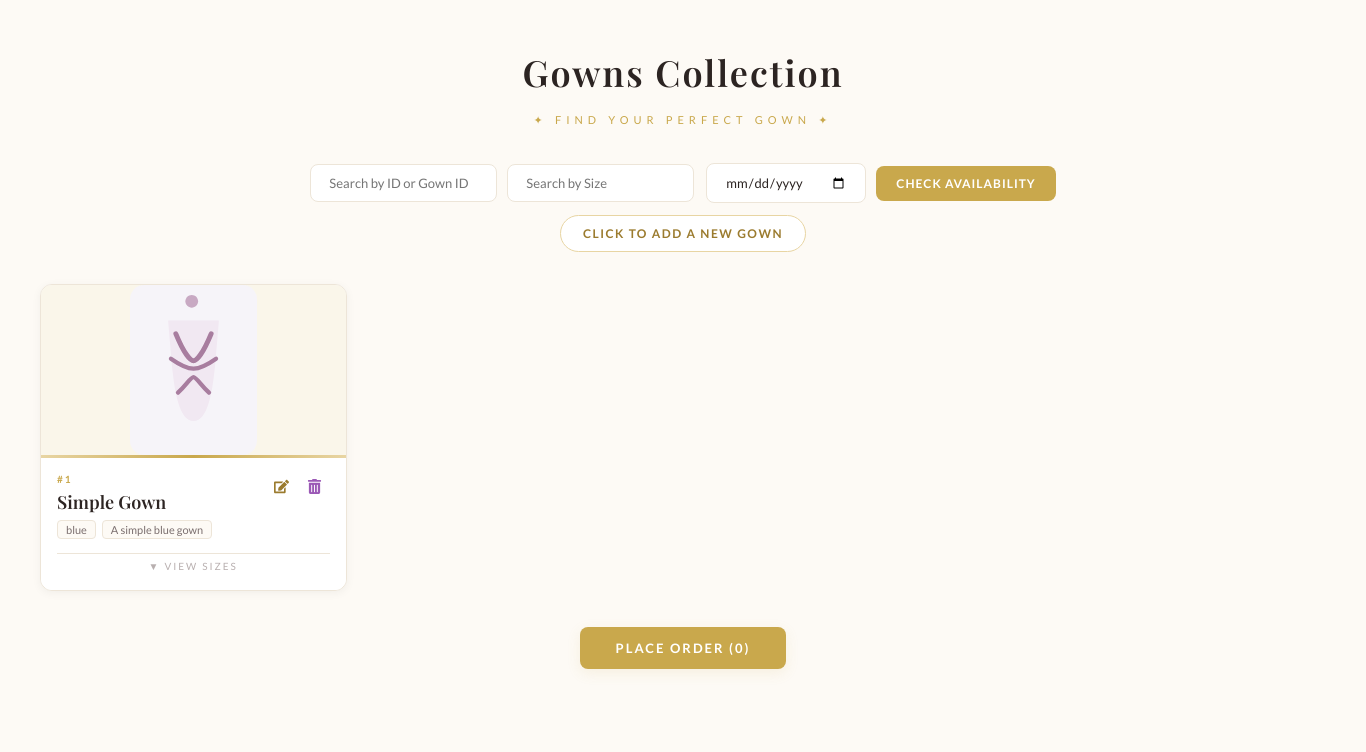
Test case: availability on a date › a size taken out of stock is shown as out of stock and cannot be added to the cart
Click the text "Simple Gown": (112, 502) [57,490,166,514]
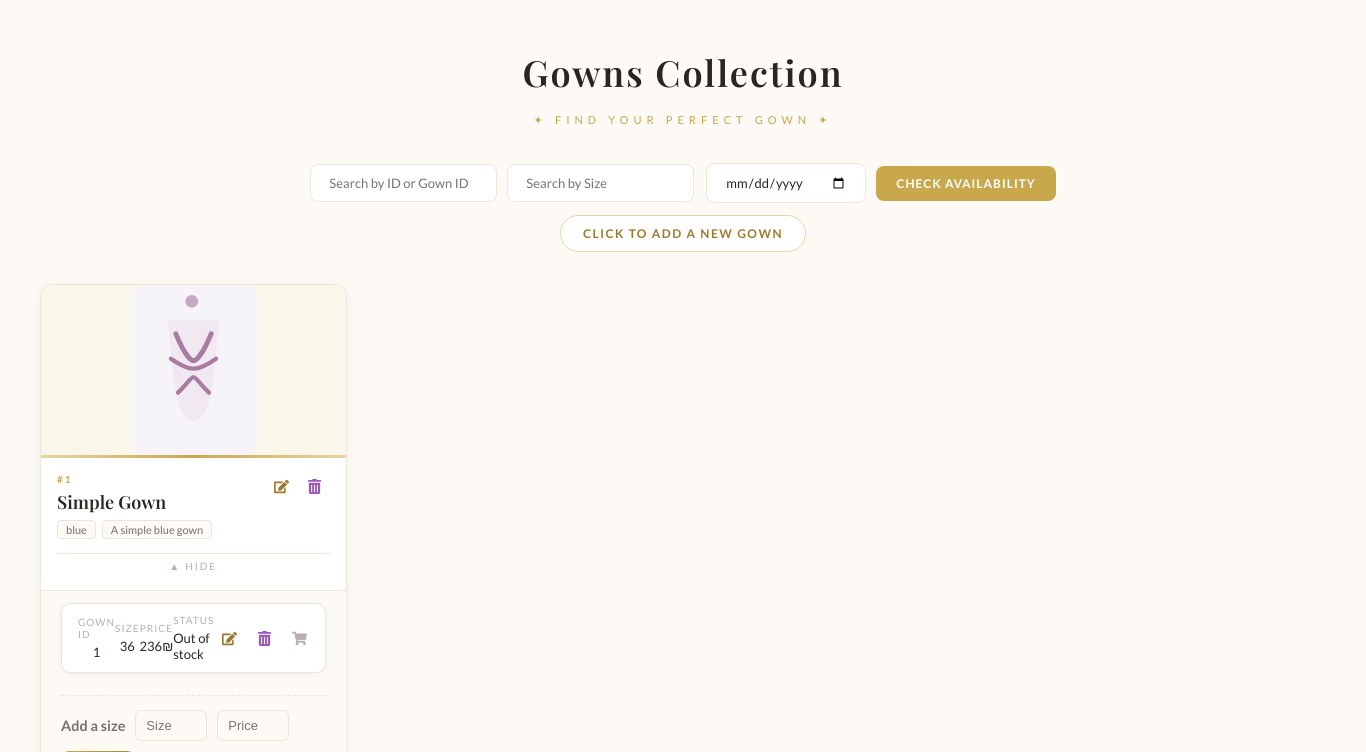
Check: the text "Out of stock" is shown, box [173,630,214,662]
Check: the button titled "Out of stock" is disabled, box [284,625,315,652]
